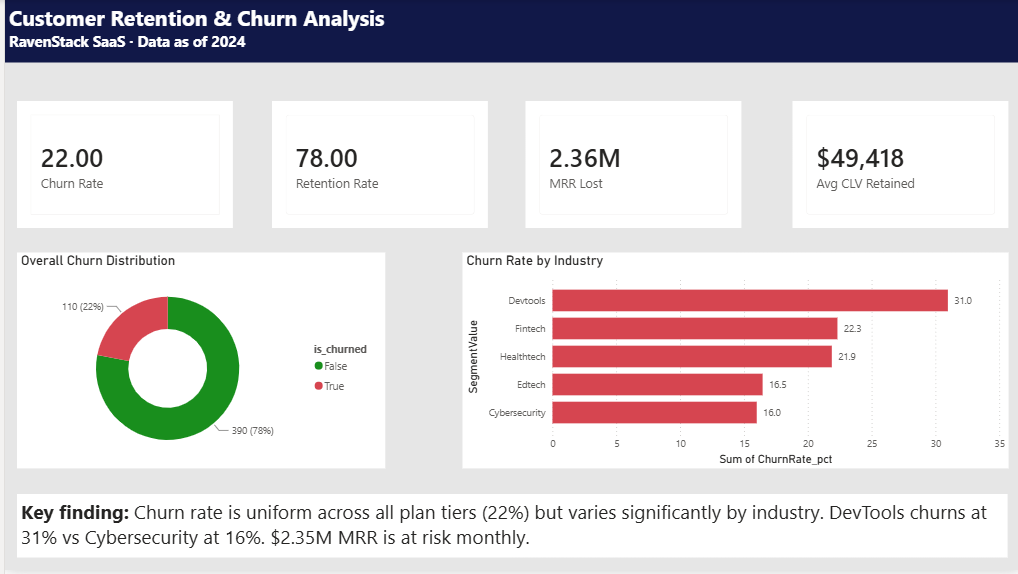

The dashboard page shown, as its layout file describes it:
{"tool":"powerbi","page":{"name":"Executive Summary","canvas":[1280,720],"ordinal":0},"visuals":[{"type":"textbox","box":[0,0,1280,80],"z":0},{"type":"cardVisual","fields":{"Data":["core_metrics.-- Card 1: Churn RateChurn Rate"]},"box":[16,128,272,160],"z":1000},{"type":"cardVisual","fields":{"Data":["core_metrics.-- Card 2: Retention RateRetention Rate"]},"box":[336,128,272,160],"z":2000},{"type":"cardVisual","fields":{"Data":["core_metrics.-- Card 3: MRR Lost to ChurnMRR Lost"]},"box":[656,128,272,160],"z":3000},{"type":"cardVisual","fields":{"Data":["core_metrics.-- Card 4: Avg CLV (Retained)Avg CLV Retained"]},"box":[992,128,272,160],"z":4000},{"type":"donutChart","title":"Overall Churn Distribution","fields":{"Category":["master_accounts.is_churned"],"Y":["CountNonNull(master_accounts.account_id)"]},"box":[16,320,464,272],"z":5000},{"type":"clusteredBarChart","title":"Churn Rate by Industry","fields":{"Category":["segment_summary.SegmentValue"],"Y":["Sum(segment_summary.ChurnRate_pct)"]},"box":[576,320,688,272],"z":6000},{"type":"textbox","box":[16,624,1248,80],"z":7000}]}

Visuals, with their boxes in screenshot pixels (x1, y1, x2, y2), scaled from the page's 1280x720 canvas onto the 1018x574 screenshot:
textbox: BBox(0, 0, 1017, 64)
cardVisual - core_metrics.-- Card 1: Churn RateChurn Rate: BBox(13, 102, 229, 230)
cardVisual - core_metrics.-- Card 2: Retention RateRetention Rate: BBox(267, 102, 484, 230)
cardVisual - core_metrics.-- Card 3: MRR Lost to ChurnMRR Lost: BBox(522, 102, 738, 230)
cardVisual - core_metrics.-- Card 4: Avg CLV (Retained)Avg CLV Retained: BBox(789, 102, 1005, 230)
"Overall Churn Distribution" donutChart: BBox(13, 255, 382, 472)
"Churn Rate by Industry" clusteredBarChart: BBox(458, 255, 1005, 472)
textbox: BBox(13, 497, 1005, 561)
